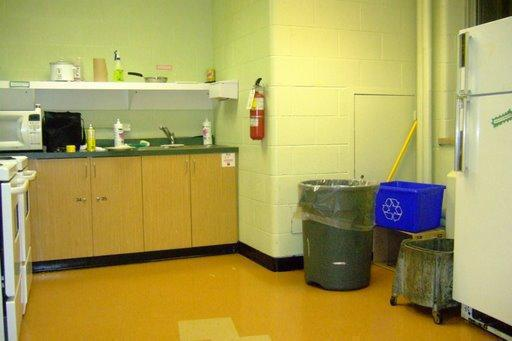Bote de Basura: (299, 180, 378, 292), (380, 185, 448, 228)
Electrodomestico: (461, 34, 511, 311), (0, 159, 21, 332), (16, 155, 34, 330)
Otro Obstaculo: (392, 234, 458, 327)
Puerta: (355, 90, 422, 183)
